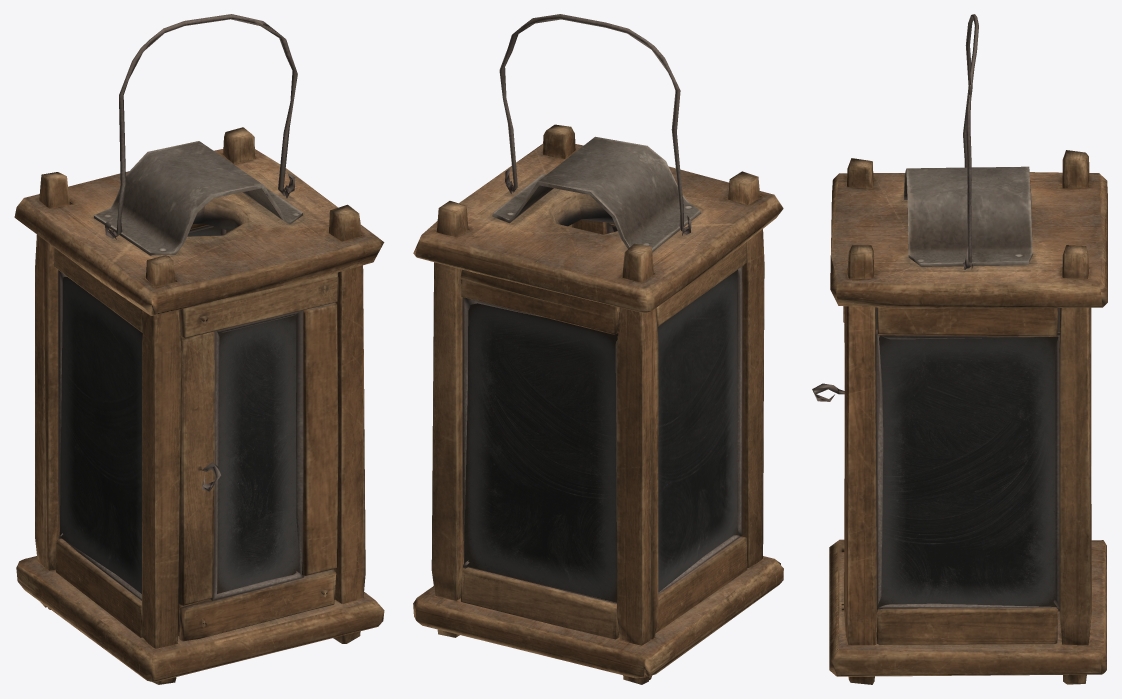
The model's file is wooden_lantern_01_lod2.glb.
3 views of the same model, side by side, from view 1: azimuth 30°, elevation 25°; view 2: azimuth 150°, elevation 25°; view 3: azimuth 270°, elevation 25° (orthographic).
Visible parts, largest first — view 1: wooden_lantern_01, wooden_lantern_01_door, wooden_lantern_01_handle; view 2: wooden_lantern_01, wooden_lantern_01_handle; view 3: wooden_lantern_01, wooden_lantern_01_handle, wooden_lantern_01_door.
Part boxes in pixels (x1=…): wooden_lantern_01: x1=14, y1=127, x2=384, y2=684; wooden_lantern_01_door: x1=178, y1=272, x2=338, y2=641; wooden_lantern_01_handle: x1=105, y1=14, x2=297, y2=238; wooden_lantern_01: x1=413, y1=124, x2=783, y2=684; wooden_lantern_01_handle: x1=499, y1=14, x2=691, y2=234; wooden_lantern_01: x1=829, y1=150, x2=1107, y2=684; wooden_lantern_01_handle: x1=963, y1=14, x2=978, y2=268; wooden_lantern_01_door: x1=812, y1=306, x2=844, y2=611.
Size of the model in its own units: 0.2205 by 0.5284 by 0.2332.
2 materials, 2 textured.
